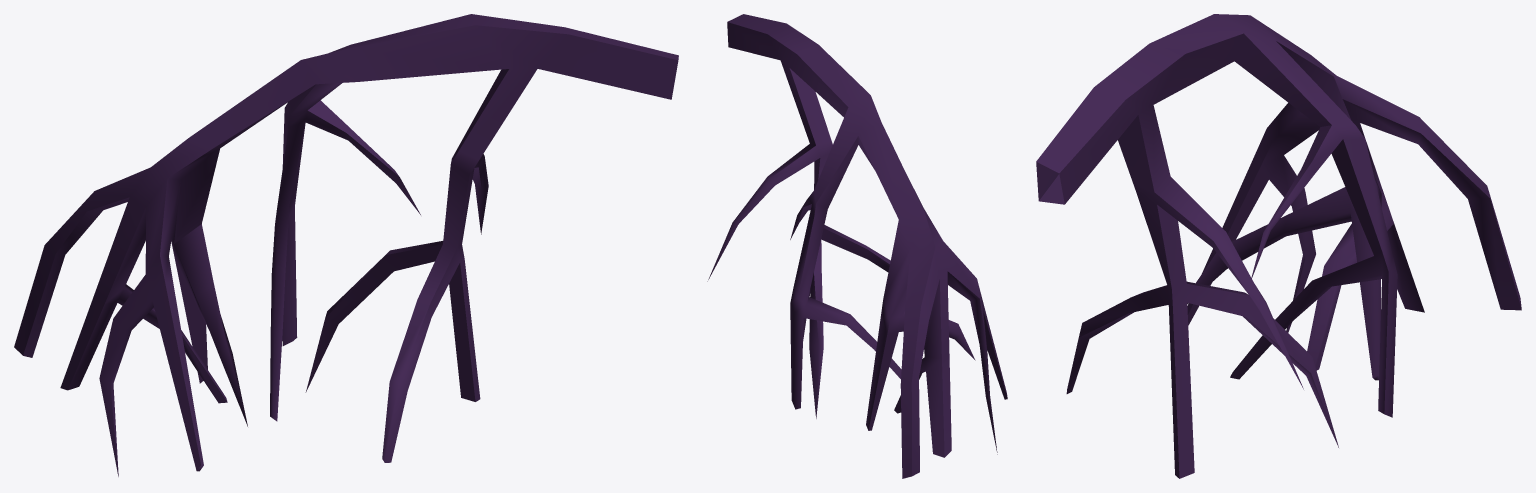
The model's file is mangroveRoot2.fbx.
The picture shows the model from 3 angles, left to right: view 1: azimuth 30°, elevation 25°; view 2: azimuth 150°, elevation 25°; view 3: azimuth 270°, elevation 25°; orthographic projection. The views are drawn at different scales.
Parts seen in each view (by area): view 1: polySurface3; view 2: polySurface3; view 3: polySurface3.
Boxes of the visible parts, bbox=[...] form: polySurface3: bbox=[14, 14, 678, 476]; polySurface3: bbox=[707, 14, 1007, 478]; polySurface3: bbox=[1036, 14, 1521, 478].
Bounding box in the file's own units: 9.02 × 7.92 × 7.48.
